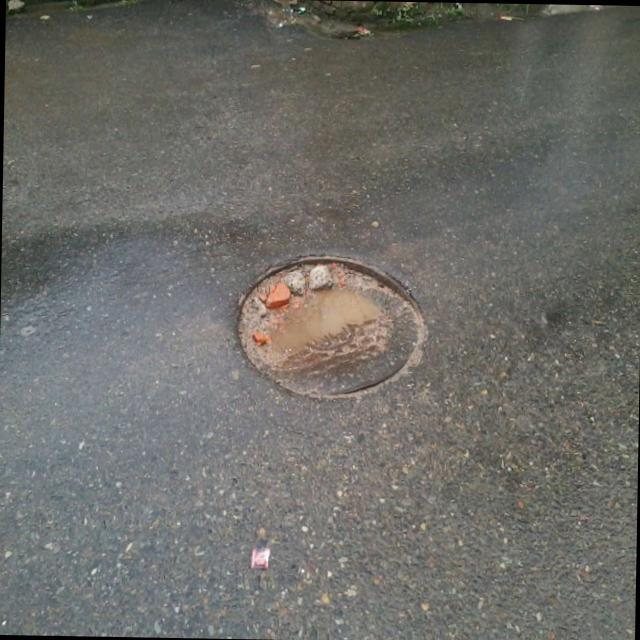Pothole: (224, 244, 433, 408)
